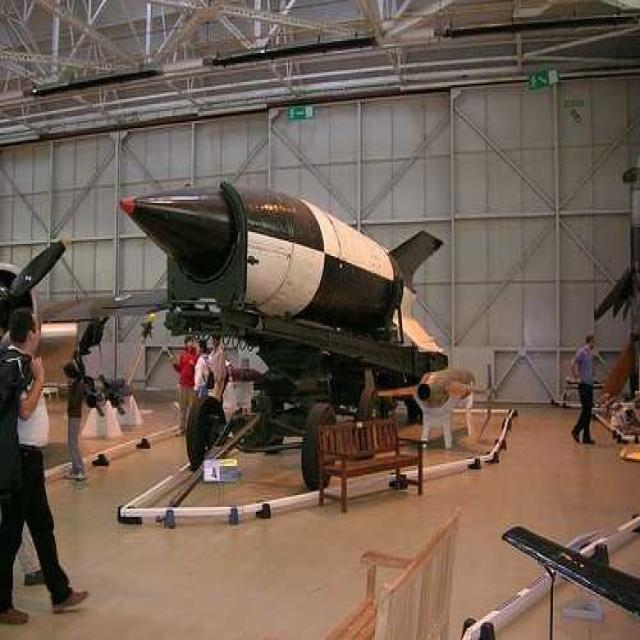missile: (120, 177, 449, 405)
